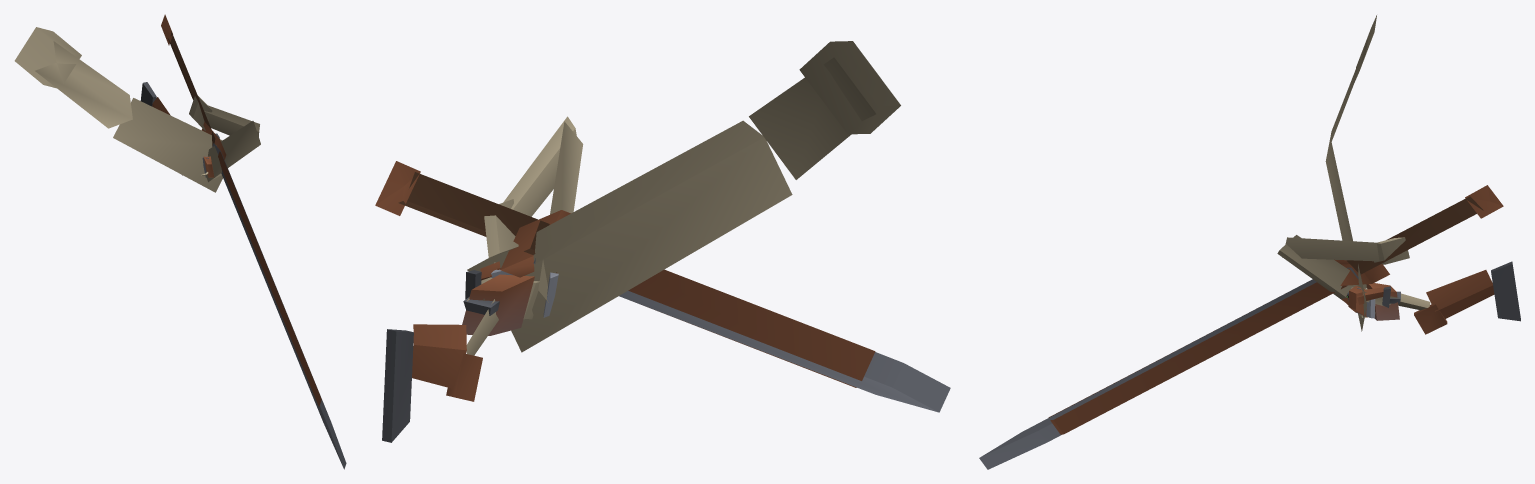
The model's file is bone_knight.glb.
3 renders of one model, left to right at view 1: azimuth 30°, elevation 25°; view 2: azimuth 150°, elevation 25°; view 3: azimuth 270°, elevation 25°, orthographic. The views are drawn at different scales.
Parts seen in each view (by area): view 1: bone_knight; view 2: bone_knight; view 3: bone_knight.
Boxes of the visible parts, x1,y1,x2,y2 form: bone_knight: (14,14,346,469); bone_knight: (375,41,950,442); bone_knight: (979,15,1520,469).
Bounding box in the file's own units: 6.65 × 9.99 × 12.77.
